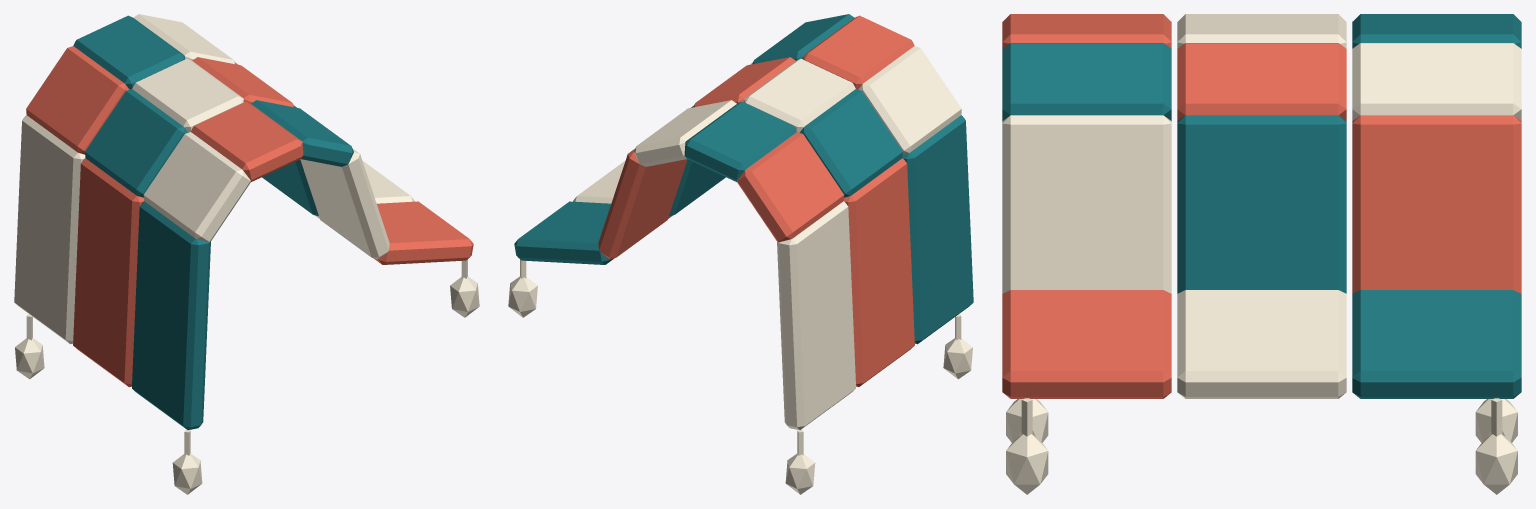
Rendered from patchwork_throw_armchair.glb.
3 renders of one model, left to right at view 1: azimuth 30°, elevation 25°; view 2: azimuth 150°, elevation 25°; view 3: azimuth 270°, elevation 25°, orthographic. The views are drawn at different scales.
Parts seen in each view (by area): view 1: patchwork_throw_armchair; view 2: patchwork_throw_armchair; view 3: patchwork_throw_armchair.
Part boxes in pixels (x1,y1,x2,y2): patchwork_throw_armchair: [14, 14, 479, 494]; patchwork_throw_armchair: [508, 14, 973, 494]; patchwork_throw_armchair: [1002, 14, 1521, 494].
Bounding box in the file's own units: 0.3772 × 0.3976 × 0.376.
